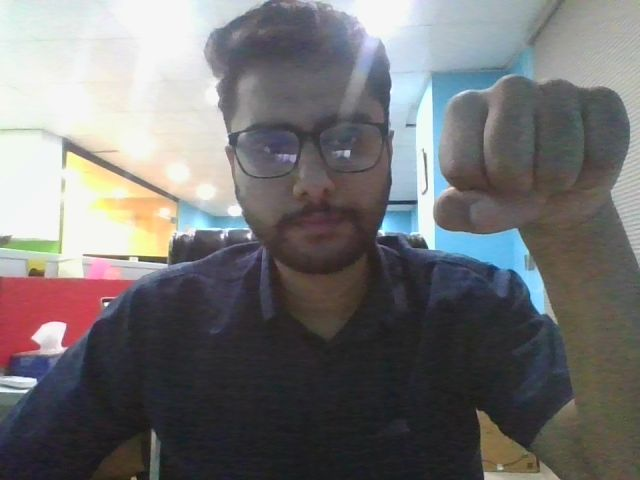yes: (427, 70, 640, 261)
